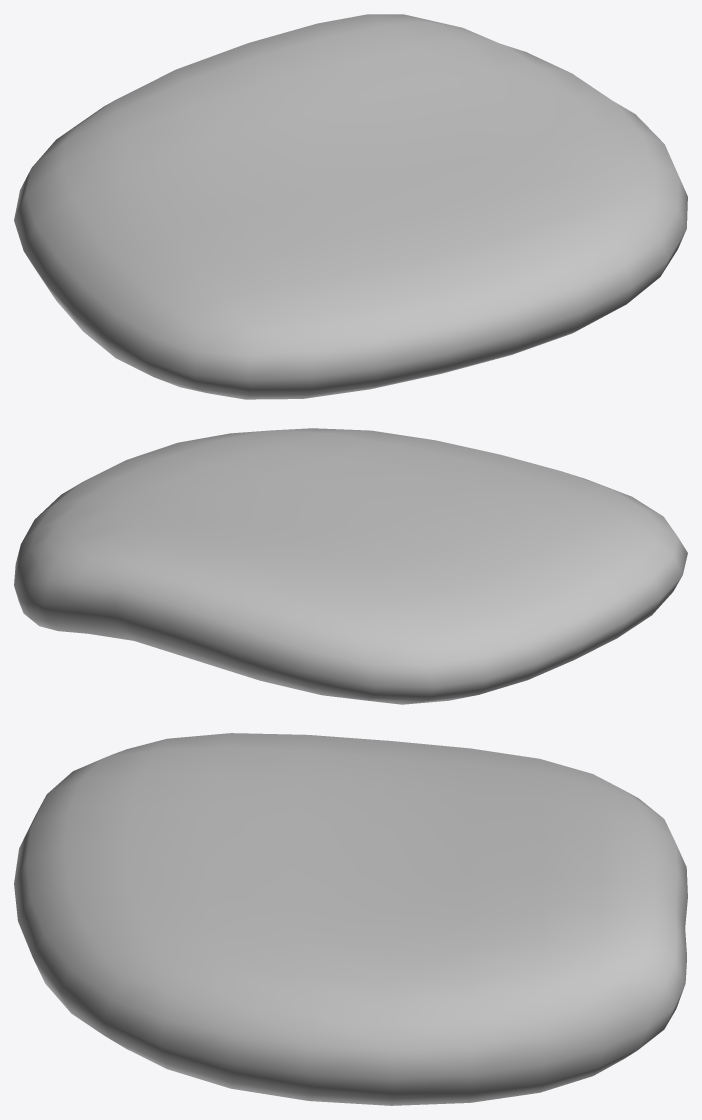
File: Farm_14_Stone_2.glb
3 renders of one model, top to bottom at view 1: azimuth 30°, elevation 25°; view 2: azimuth 150°, elevation 25°; view 3: azimuth 270°, elevation 25°, orthographic. The views are drawn at different scales.
Parts seen in each view (by area): view 1: Farm_14_Stone_2; view 2: Farm_14_Stone_2; view 3: Farm_14_Stone_2.
Boxes of the visible parts, box(x1,y1,x2,y2) form: Farm_14_Stone_2: box(14, 14, 687, 399); Farm_14_Stone_2: box(14, 428, 687, 704); Farm_14_Stone_2: box(14, 733, 687, 1105).
Size of the model in its own units: 1.37 by 0.2954 by 1.21.
1 material, 1 textured.
